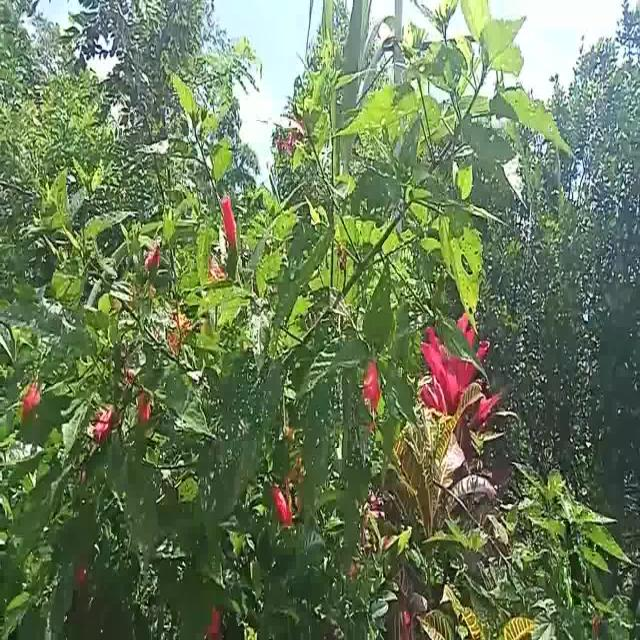Flower: (218, 199, 242, 261), (268, 480, 294, 526), (366, 356, 379, 419), (21, 381, 43, 415)
